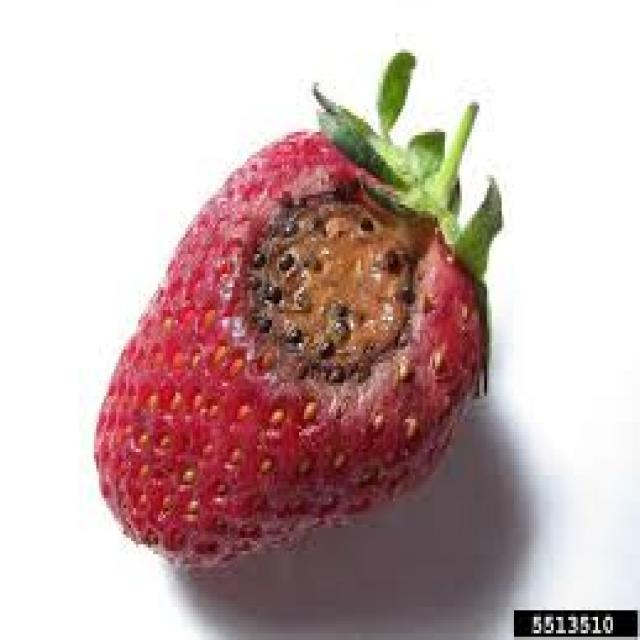Mancha negra Antracnosis: (72, 106, 494, 563)
